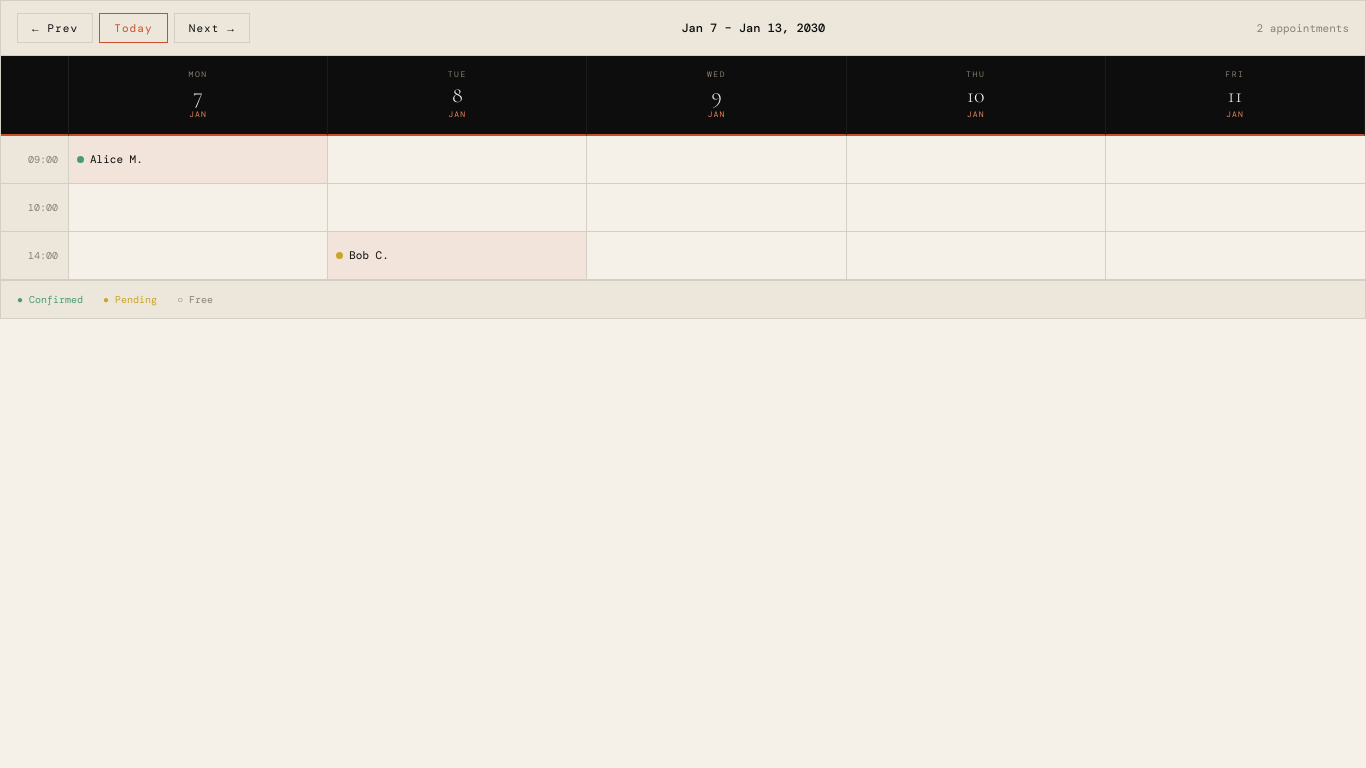
it: AppointmentsGrid › closing the detail drawer removes it
Expected: the table with class "appts-grid__table" is shown, [1, 56, 1365, 136]
Click the cell with class "appts-grid__cell--booked" showing "Alice M." at coordinates (199, 160), box [69, 136, 328, 184]
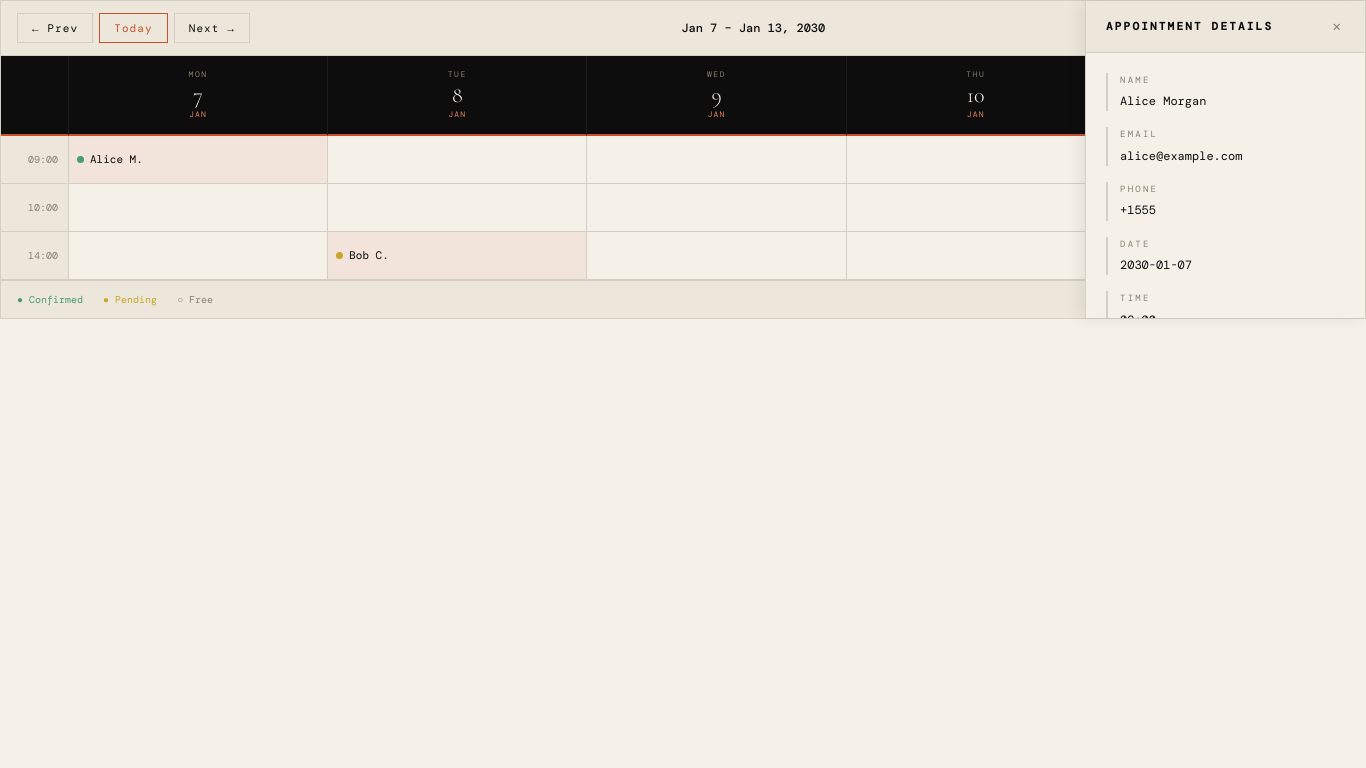
Click the button named "close details" at coordinates (1337, 26), box [1329, 17, 1345, 35]
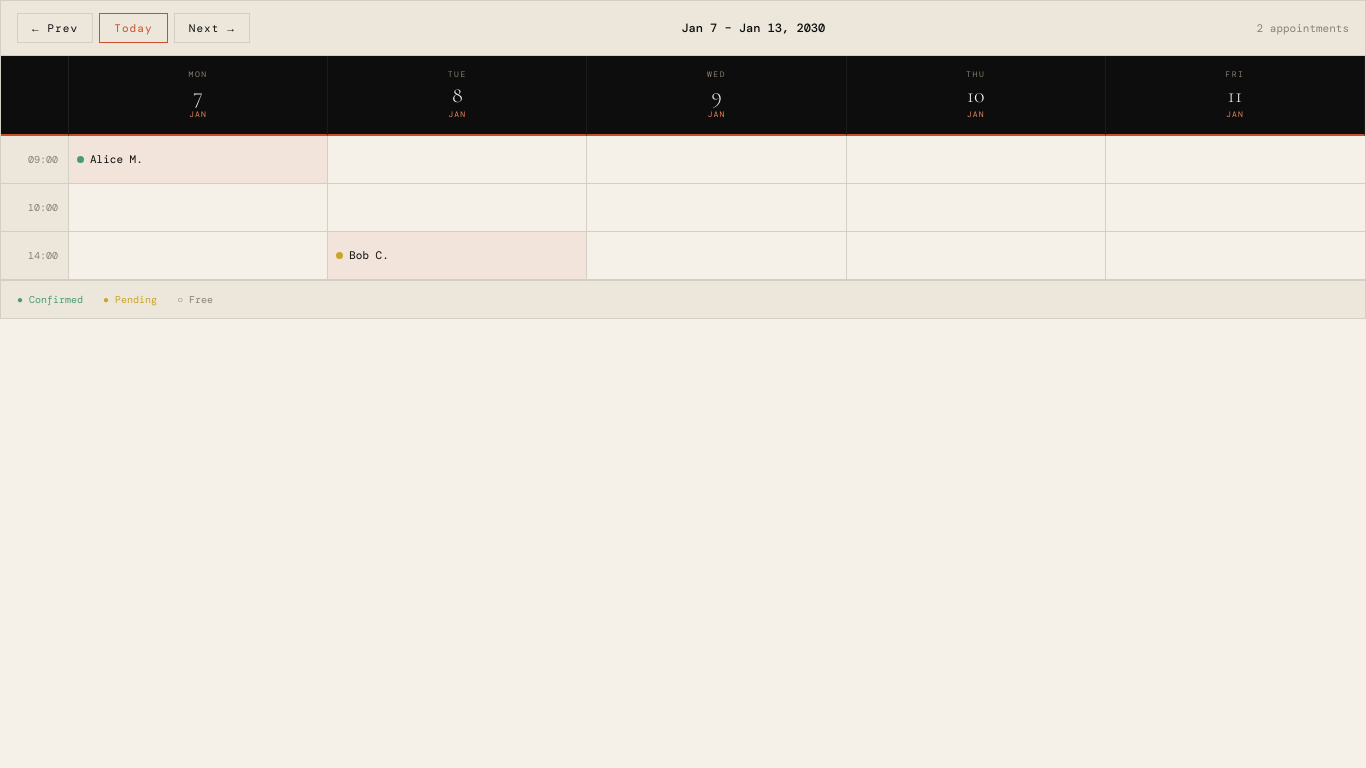
Now the heading "Appointment details" is gone
